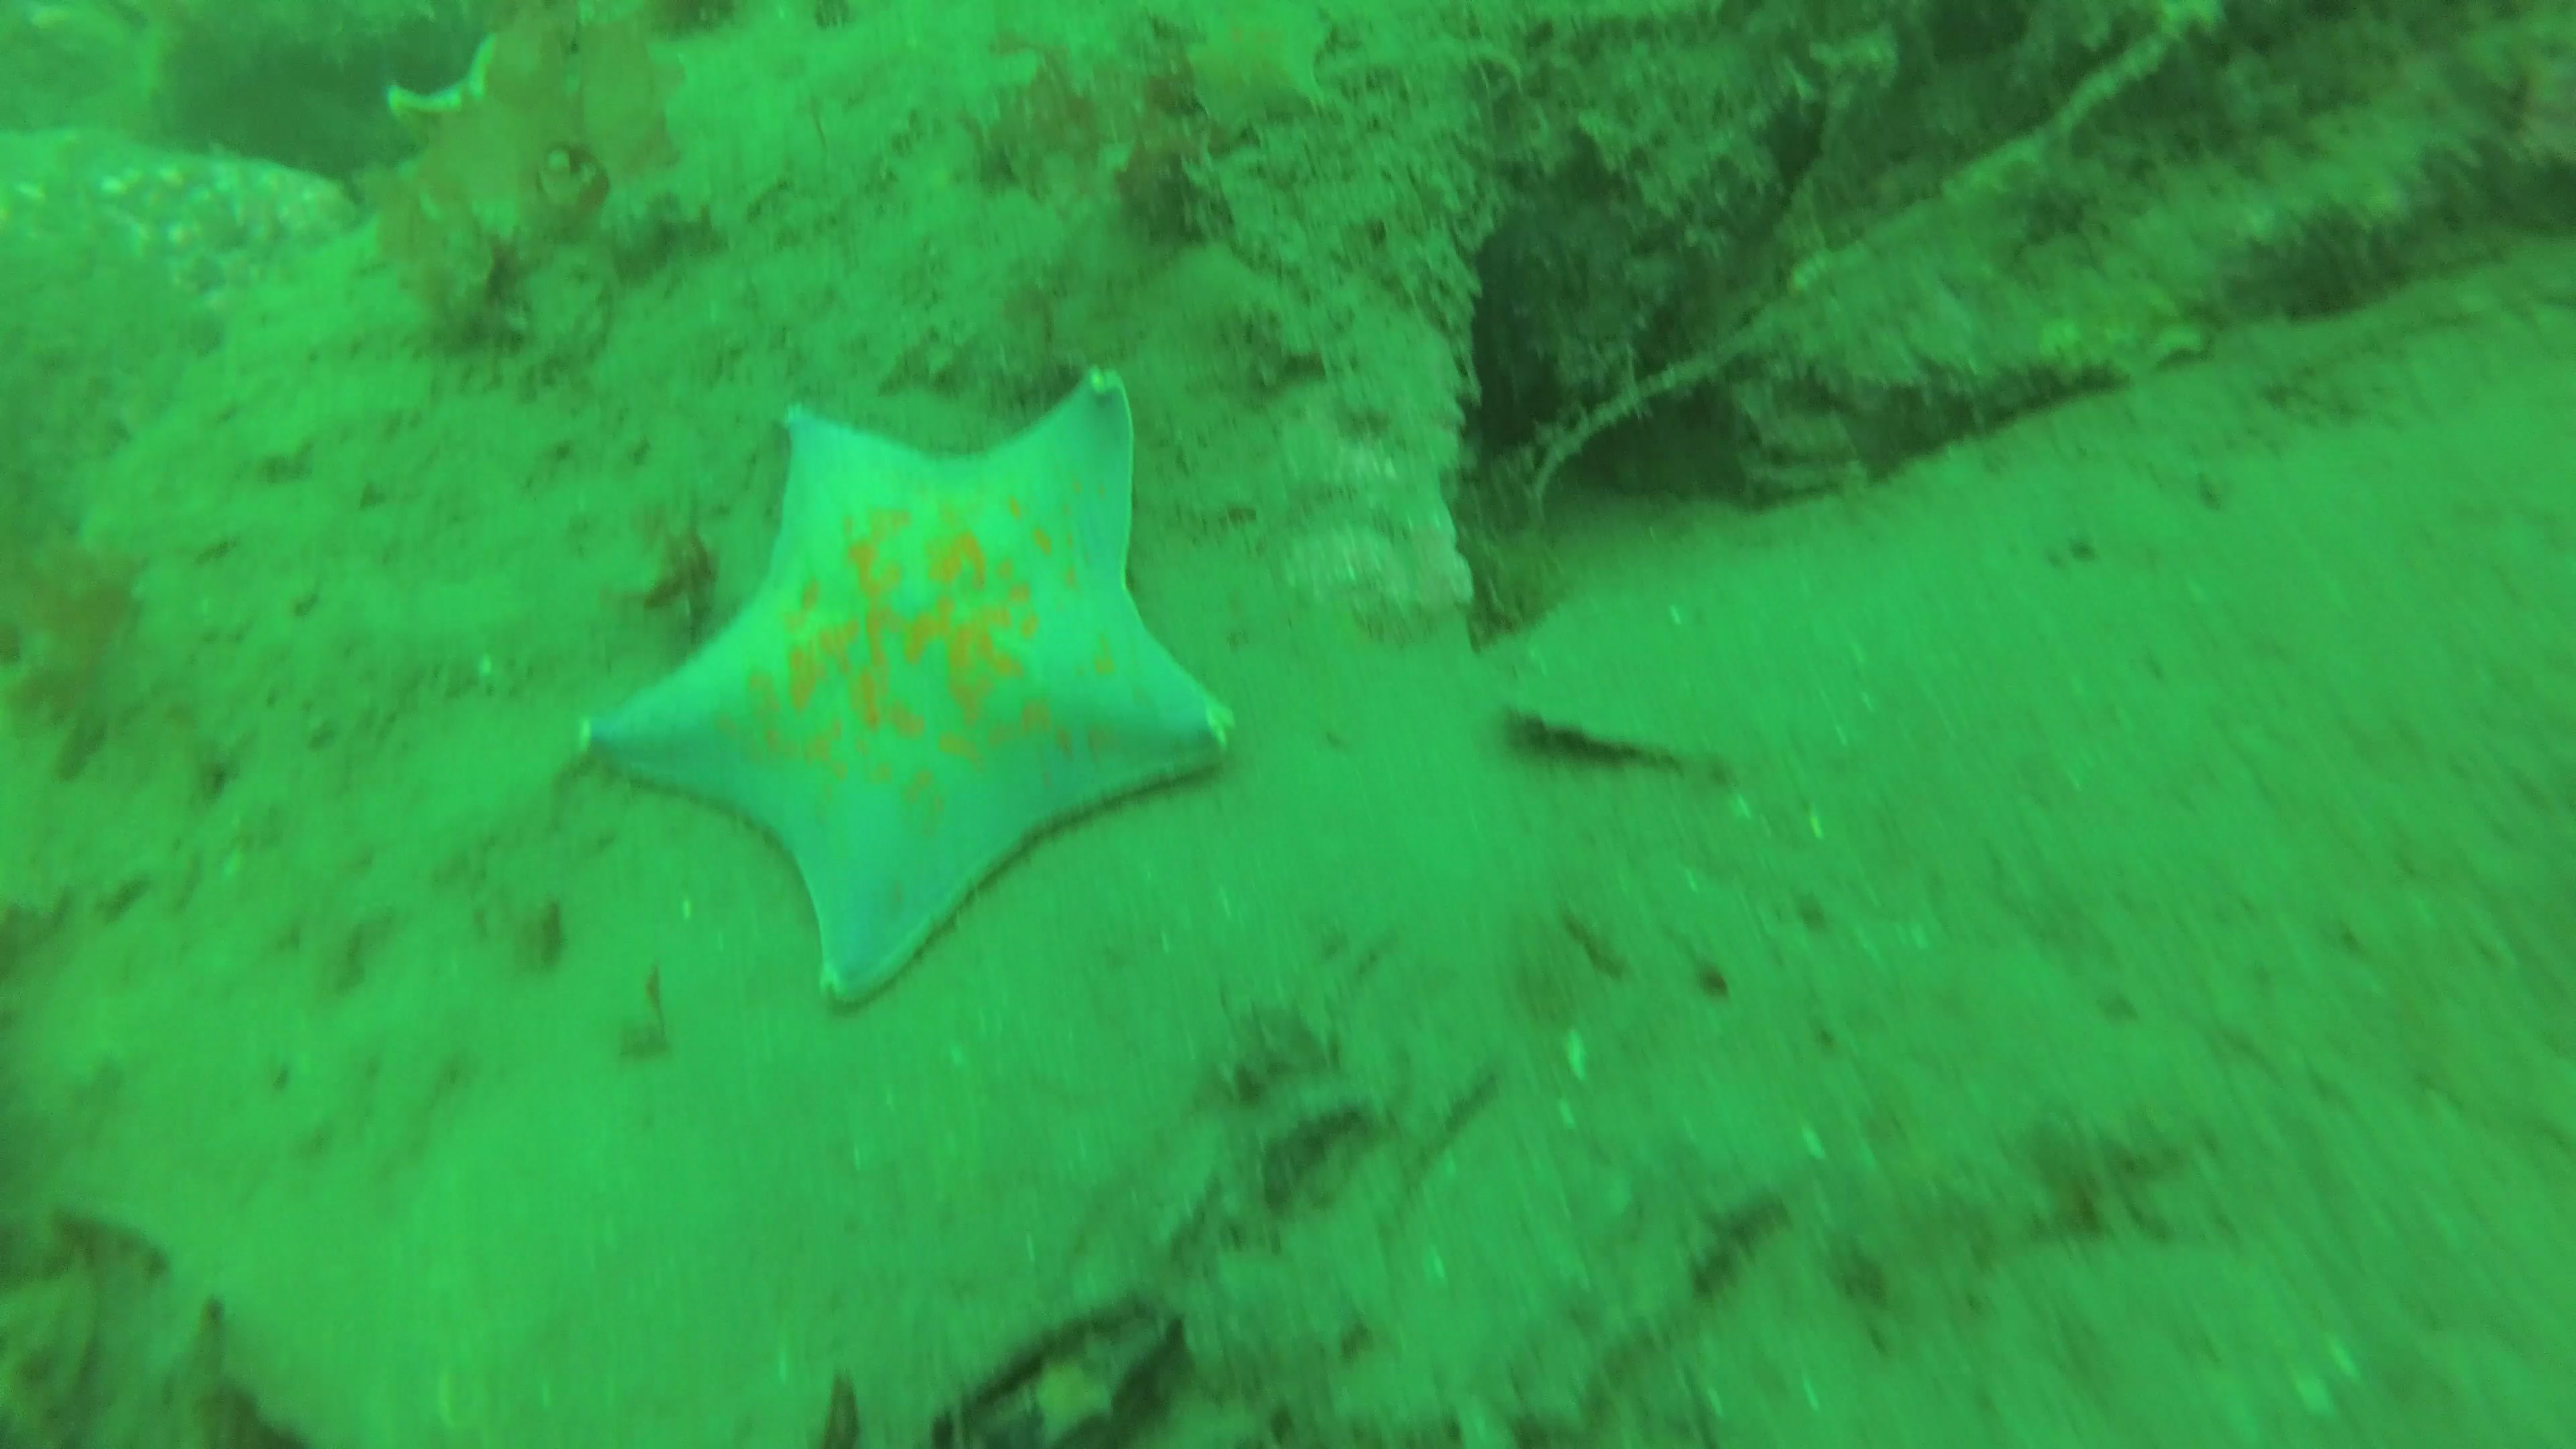starfish: (573, 372, 1235, 1017)
